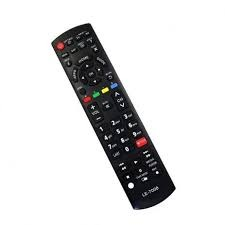remote control: (40, 24, 182, 219)
